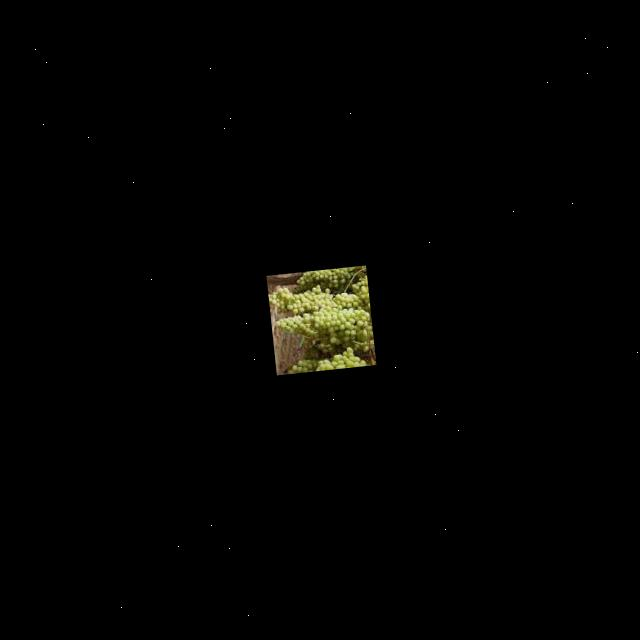grape: (266, 265, 375, 374)
